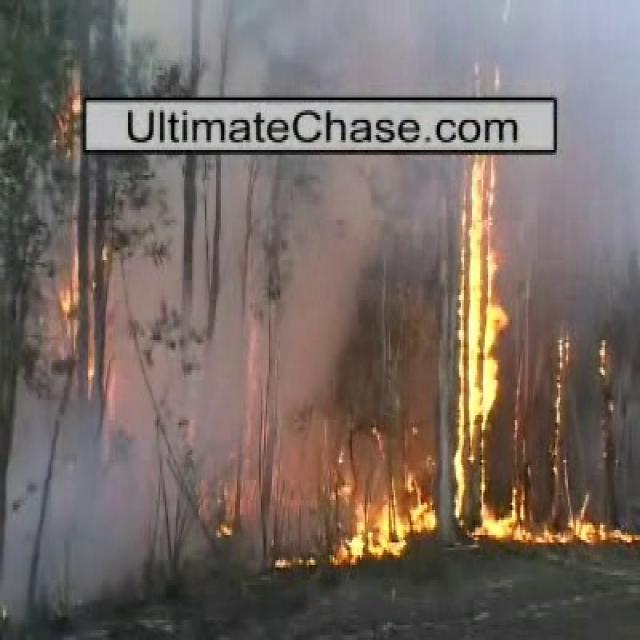Fire: (460, 156, 497, 457)
Smoke: (163, 145, 345, 510), (172, 3, 635, 96), (10, 378, 152, 600)
